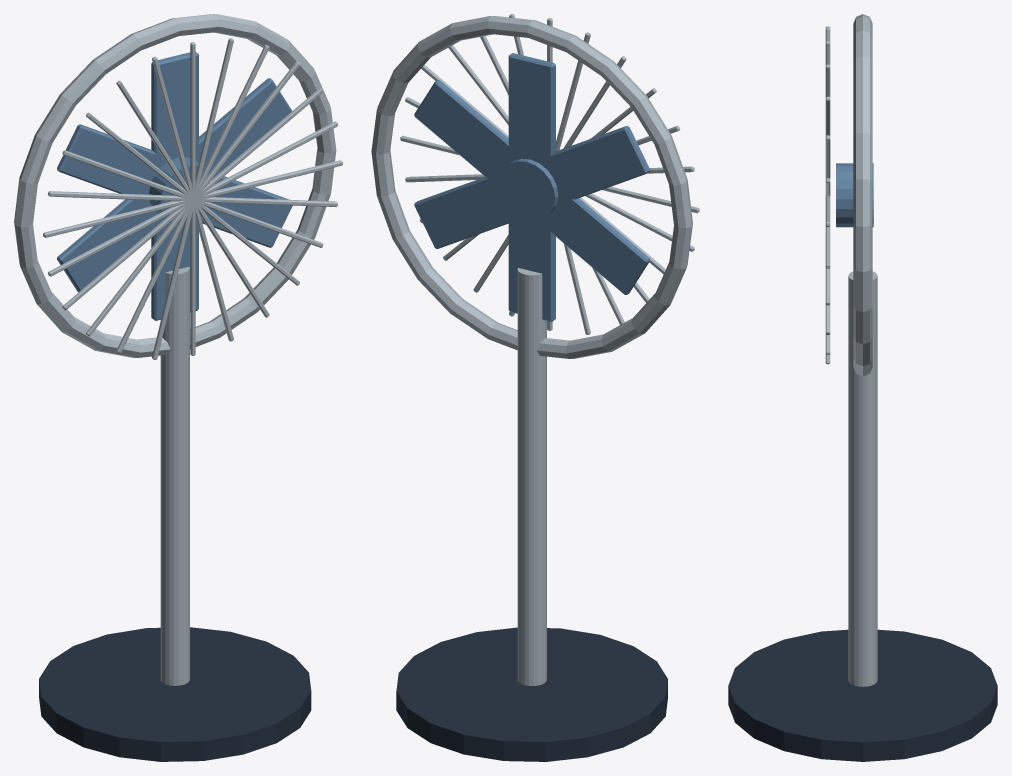
Rendered from logistics_12.glb.
3 views of the same model, side by side, from view 1: azimuth 30°, elevation 25°; view 2: azimuth 150°, elevation 25°; view 3: azimuth 270°, elevation 25° (orthographic).
Visible parts, largest first — view 1: FanBase, SafetySpoke (×12), FanBlade (×6), FanRing, FanStem, FanHub; view 2: FanBase, FanBlade (×6), FanRing, FanStem, SafetySpoke (×9), FanHub; view 3: FanBase, FanStem, FanRing, FanHub.
Part boxes in pixels (<box>): FanBase: <box>39,627,311,761</box>; SafetySpoke (×12): <box>43,38,342,359</box>; FanBlade (×6): <box>57,52,292,320</box>; FanRing: <box>14,14,336,357</box>; FanStem: <box>160,266,189,685</box>; FanHub: <box>149,157,216,226</box>; FanBase: <box>396,627,667,761</box>; FanBlade (×6): <box>414,53,650,321</box>; FanRing: <box>371,16,692,358</box>; FanStem: <box>517,268,546,685</box>; SafetySpoke (×9): <box>400,14,699,334</box>; FanHub: <box>498,158,558,221</box>; FanBase: <box>728,629,997,761</box>; FanStem: <box>848,271,877,686</box>; FanRing: <box>853,14,872,376</box>; FanHub: <box>836,163,873,227</box>.
Bounding box in the file's own units: 0.676 × 1.38 × 0.5.
